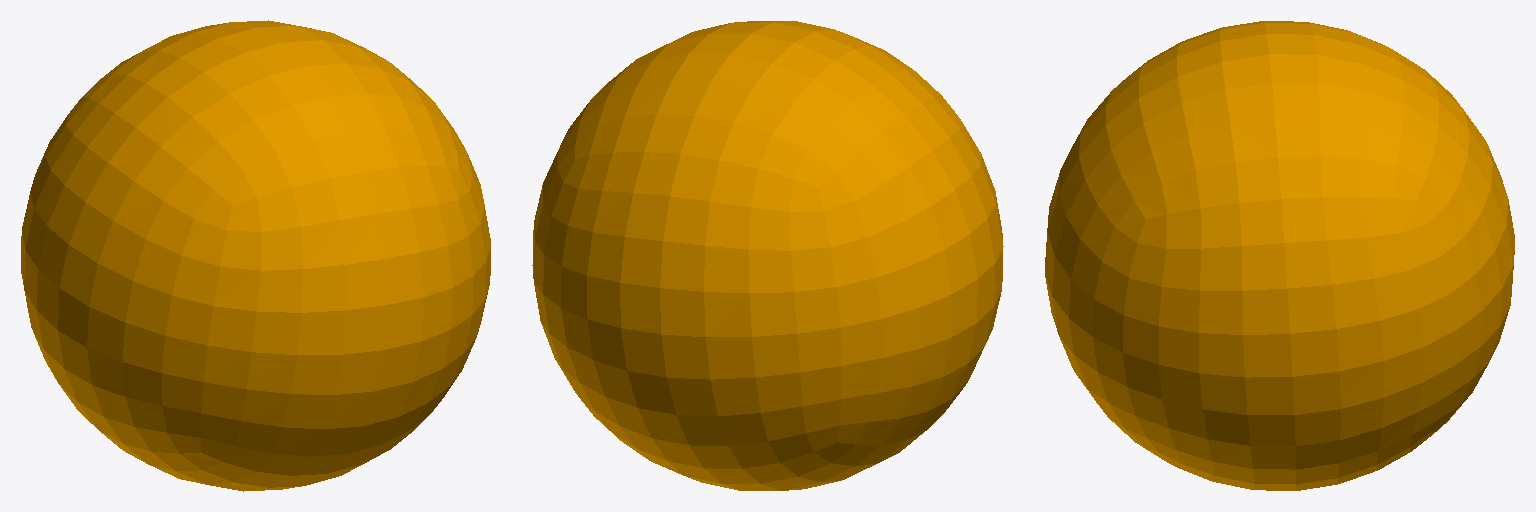
robot.urdf — earth:
  
<robot name="earth">
  <link name="earth">
    <inertial>
      <mass value="0.01" />
      <!-- center of mass (com) is defined w.r.t. link local coordinate system -->
      <!-- give a little y-offset to make the top precess -->
      <origin xyz="0 0 0" /> 
      <inertia  ixx="1.0" ixy="0.0"  ixz="0.0"  iyy="1.0"  iyz="0.0"  izz="1.0" />
    </inertial>
    <visual>
      <!-- visual origin is defined w.r.t. link local coordinate system -->
      <origin xyz="0 0 0" rpy="0 0 0" />
      <geometry>
        <mesh filename="meshes/earth.obj" scale="5 5 5"/>
      </geometry>
    </visual>

  </link>
</robot>

--- Facts derived from the render (not from the file) ---
The picture shows the robot from 3 angles, left to right: view 1: azimuth 30°, elevation 25°; view 2: azimuth 150°, elevation 25°; view 3: azimuth 270°, elevation 25°; orthographic projection.
Model earth with 1 links and 0 joints (none), rooted at earth, posed all joints at 0.
Visible links, largest first — view 1: earth; view 2: earth; view 3: earth.
Boxes of the visible links, x1,y1,x2,y2 form: earth: [21, 20, 490, 491]; earth: [532, 21, 1003, 490]; earth: [1045, 21, 1514, 490].
Bounding box of the posed robot: 31.6 × 31.7 × 31.59 m (x, y, z).
Meshes: 1 distinct files referenced, 1 mesh visuals loaded (1 OBJ).